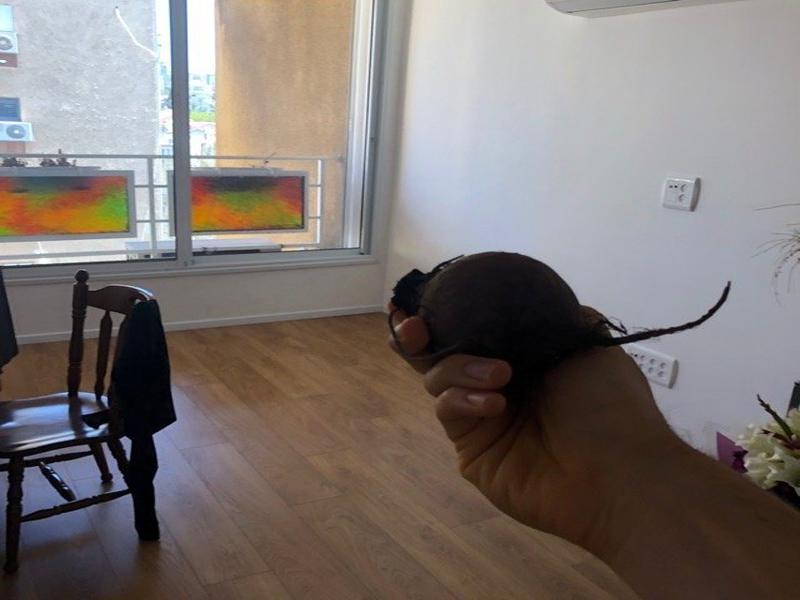Beet: (385, 252, 728, 365)
